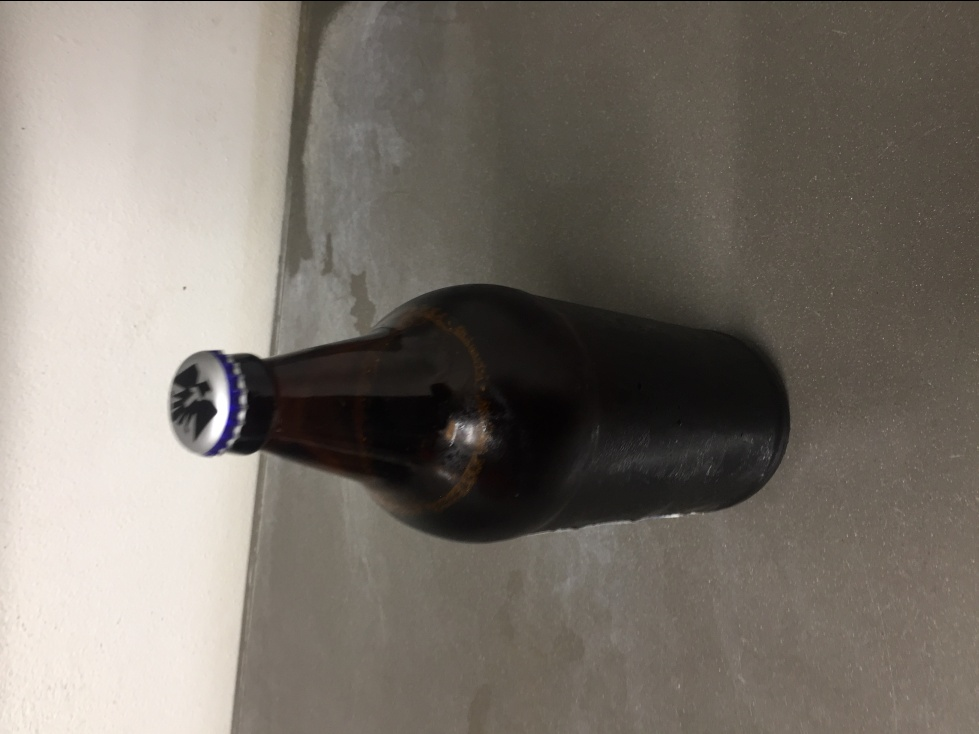tecateC: (168, 282, 792, 546)
